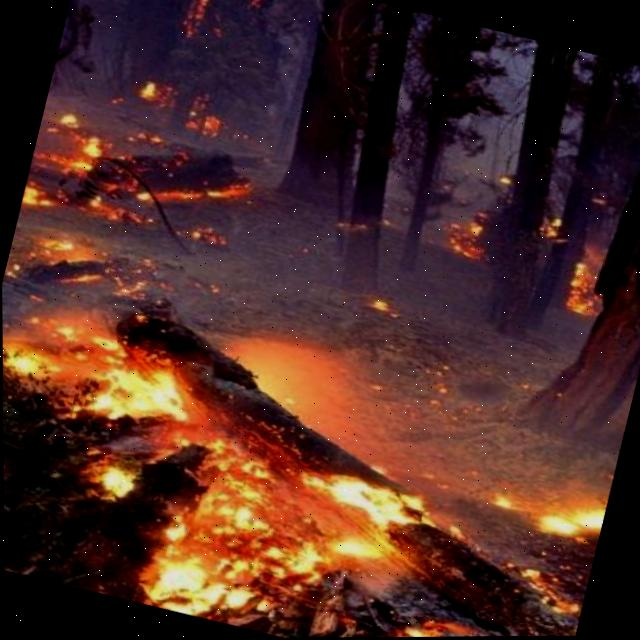fire: (2, 320, 430, 621)
smoke: (2, 0, 640, 600)
